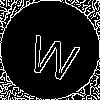W: (25, 25, 84, 83)
